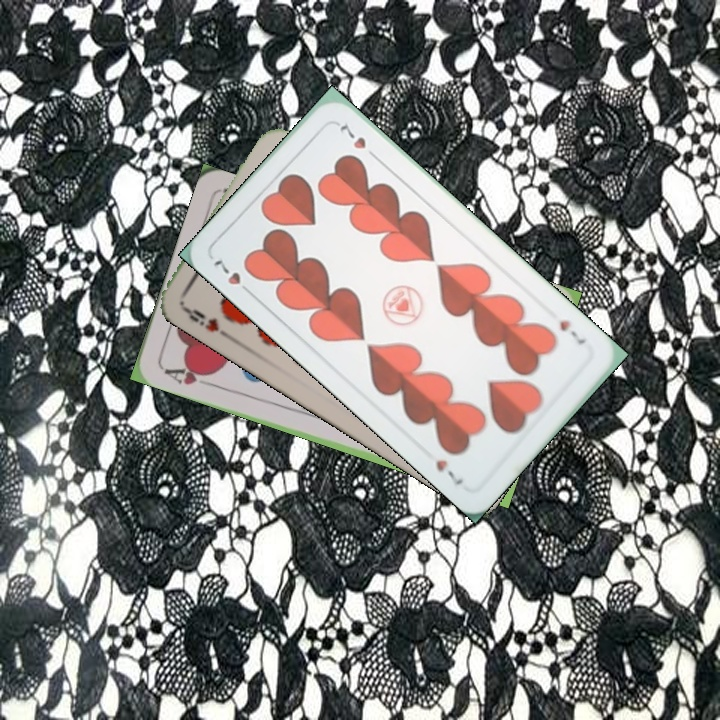H7: (209, 253, 256, 299), (555, 315, 588, 348)
H9: (178, 302, 231, 340)
HA: (160, 361, 217, 389)
